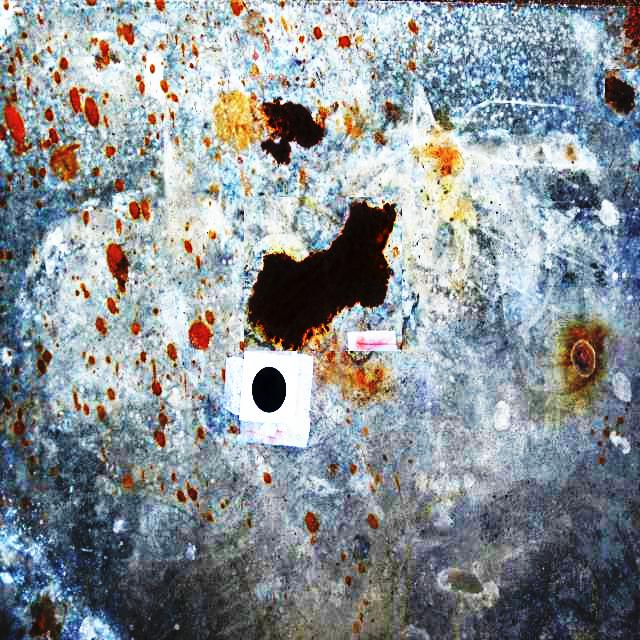Corrosion: (248, 202, 396, 350), (261, 101, 323, 164), (3, 105, 28, 154), (605, 75, 635, 112), (105, 244, 127, 292), (50, 144, 78, 180), (188, 322, 210, 350), (83, 96, 98, 126), (115, 23, 133, 44), (35, 351, 51, 374), (304, 513, 319, 534), (68, 87, 80, 112), (98, 40, 109, 64), (230, 0, 244, 15), (139, 200, 149, 220), (71, 390, 80, 412), (105, 298, 117, 314), (94, 318, 106, 334), (134, 73, 144, 92), (128, 201, 139, 218), (153, 432, 164, 448), (78, 283, 89, 298), (47, 128, 57, 144), (166, 344, 176, 360), (12, 422, 23, 435), (407, 19, 418, 32), (151, 382, 161, 396), (338, 35, 350, 46), (158, 79, 168, 92), (204, 311, 214, 324), (158, 414, 167, 428), (187, 489, 196, 502), (153, 0, 164, 10), (95, 406, 104, 418), (313, 26, 322, 38), (114, 219, 121, 234), (43, 109, 52, 120), (105, 389, 114, 400), (114, 179, 123, 190), (196, 428, 204, 440), (81, 211, 88, 224), (130, 324, 139, 334), (184, 240, 191, 252), (58, 57, 67, 66), (105, 146, 113, 156), (52, 71, 59, 82), (264, 473, 271, 484), (228, 426, 237, 434), (408, 61, 416, 70), (82, 405, 88, 416), (148, 63, 155, 72), (38, 167, 45, 176), (139, 352, 145, 362), (87, 356, 94, 364), (84, 0, 95, 5), (28, 167, 34, 176), (104, 356, 110, 364), (36, 201, 41, 208)
